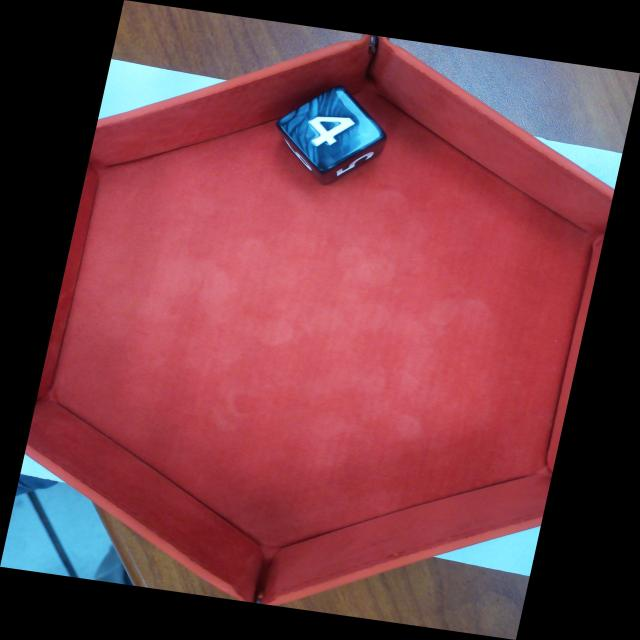dice: (275, 83, 391, 173)
